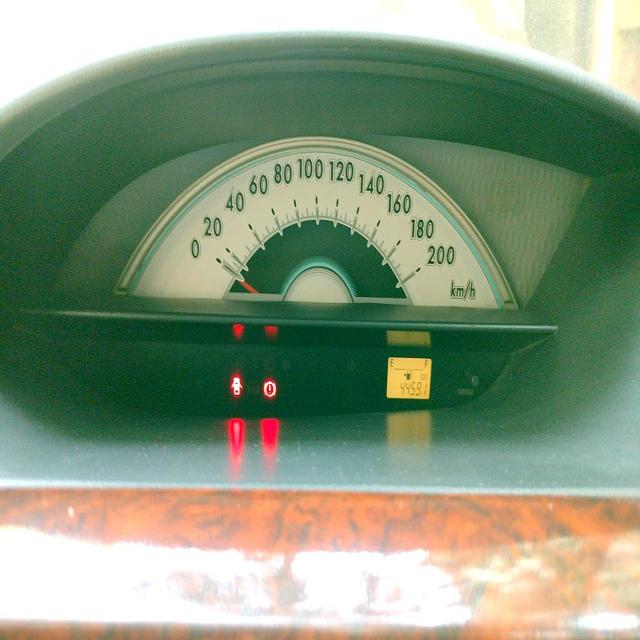odometer: (397, 380, 428, 398)
